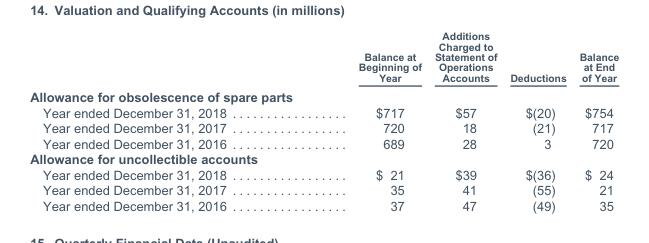table: (29, 29, 618, 212)
table column: (29, 29, 291, 212), (291, 29, 427, 212), (427, 29, 502, 212), (502, 29, 572, 212), (572, 29, 618, 212)
table column header: (29, 29, 618, 85)
table projected row header: (29, 85, 618, 104), (29, 150, 618, 166)
table row: (29, 29, 618, 85), (29, 85, 618, 104), (29, 119, 618, 135), (29, 150, 618, 166), (29, 181, 618, 197), (29, 104, 618, 119), (29, 135, 618, 150), (29, 166, 618, 181), (29, 197, 618, 212)
